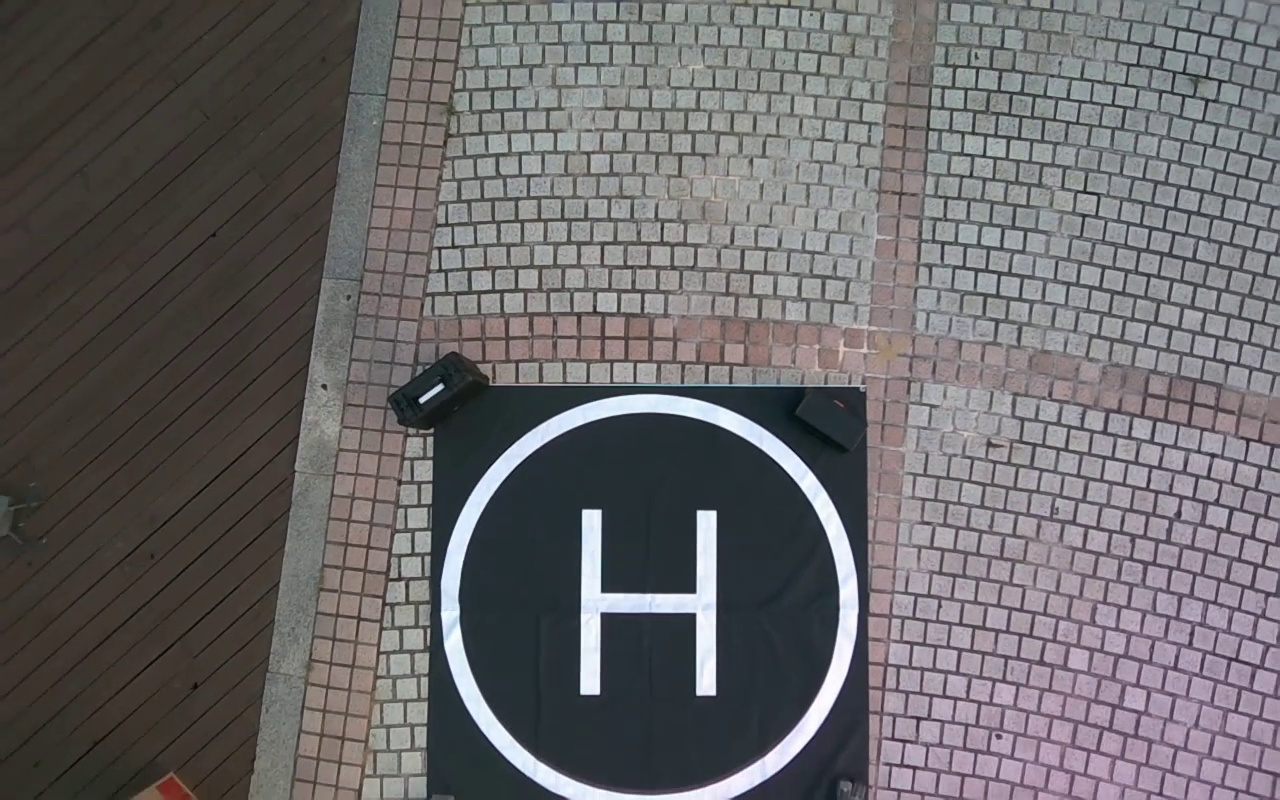H: (578, 508, 718, 697)
heliport: (440, 390, 864, 800)
